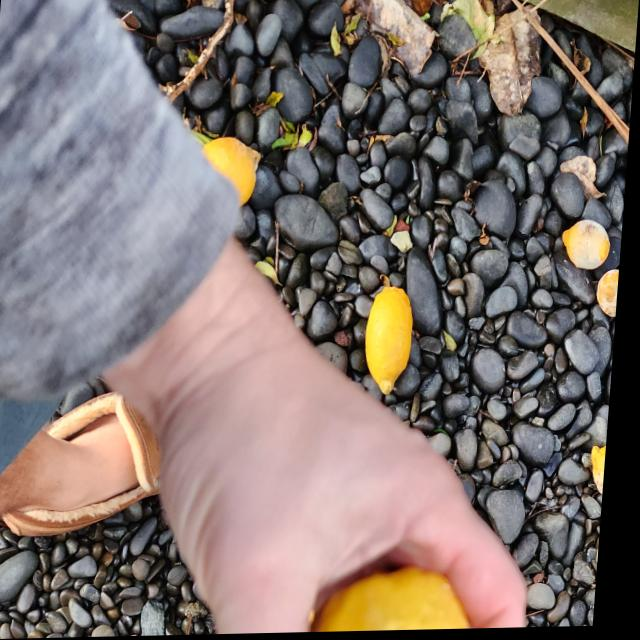lemon: (320, 571, 491, 634)
